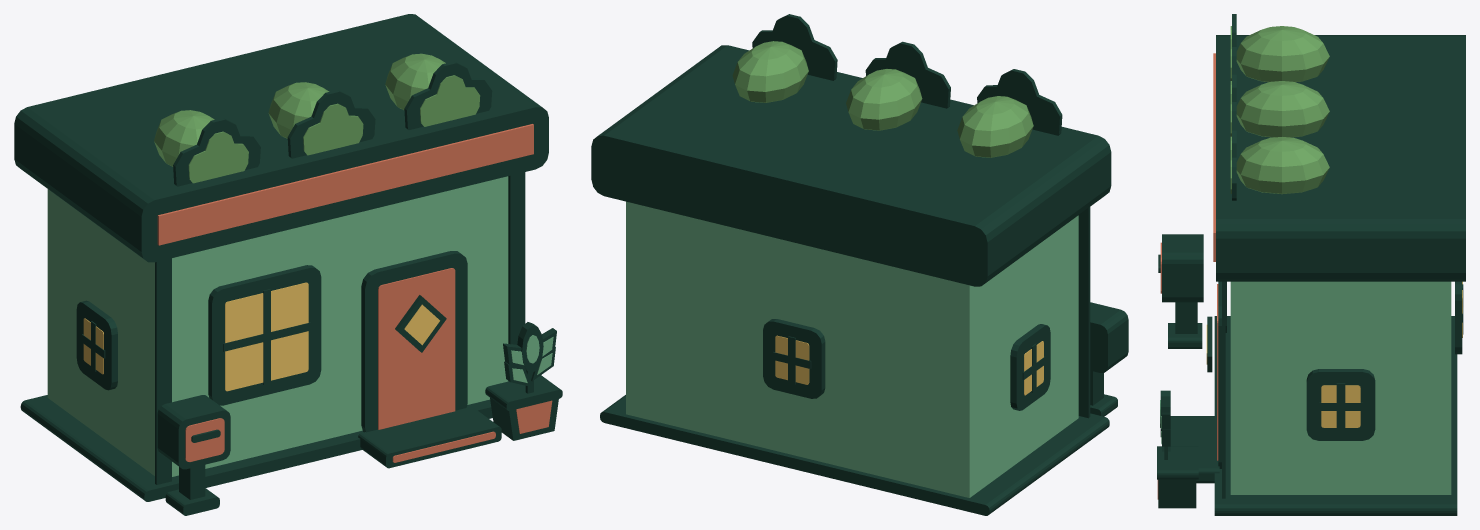
The picture shows the model from 3 angles, left to right: view 1: azimuth 30°, elevation 25°; view 2: azimuth 150°, elevation 25°; view 3: azimuth 270°, elevation 25°; orthographic projection. The views are drawn at different scales.
Visible parts, largest first — view 1: Rent Free house; view 2: Rent Free house; view 3: Rent Free house.
Boxes of the visible parts, <box> form: Rent Free house: <box>14,14,562,515</box>; Rent Free house: <box>591,14,1128,515</box>; Rent Free house: <box>1157,14,1465,515</box>.
Bounding box in the file's own units: 1.08 × 0.8971 × 0.72.
